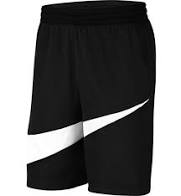nike: (16, 96, 154, 176)
